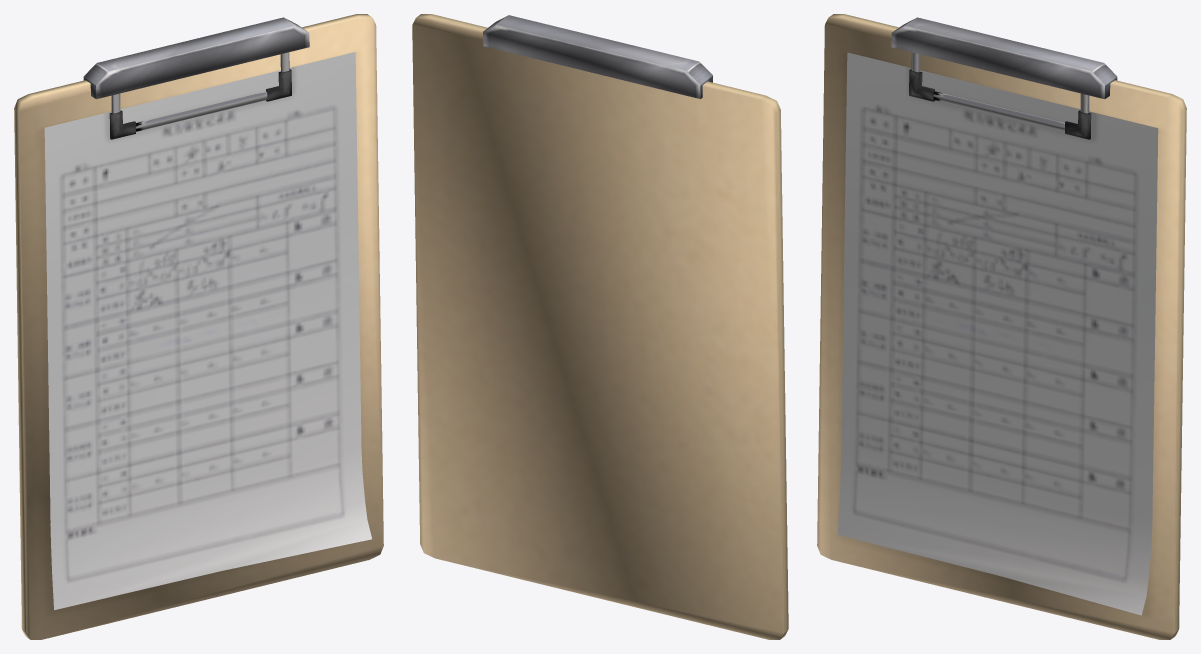
The model's file is Weapon_BingLiJia_fbx.FBX.
The picture shows the model from 3 angles, left to right: view 1: azimuth 30°, elevation 25°; view 2: azimuth 150°, elevation 25°; view 3: azimuth 330°, elevation 25°; orthographic projection.
Parts seen in each view (by area): view 1: BingLijia; view 2: BingLijia; view 3: BingLijia.
Part boxes in pixels (x1=…): BingLijia: x1=14, y1=14, x2=383, y2=639; BingLijia: x1=412, y1=14, x2=788, y2=639; BingLijia: x1=817, y1=14, x2=1186, y2=639.
Size of the model in its own units: 0.2078 by 0.3056 by 0.0258.
